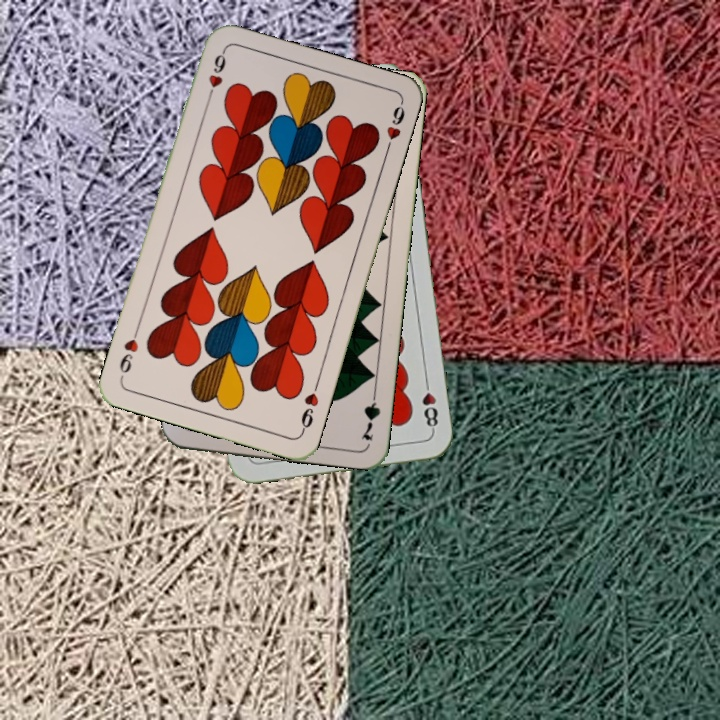G7: (357, 384, 383, 444)
H8: (418, 375, 441, 434)
H9: (202, 47, 229, 105), (297, 378, 322, 436)
